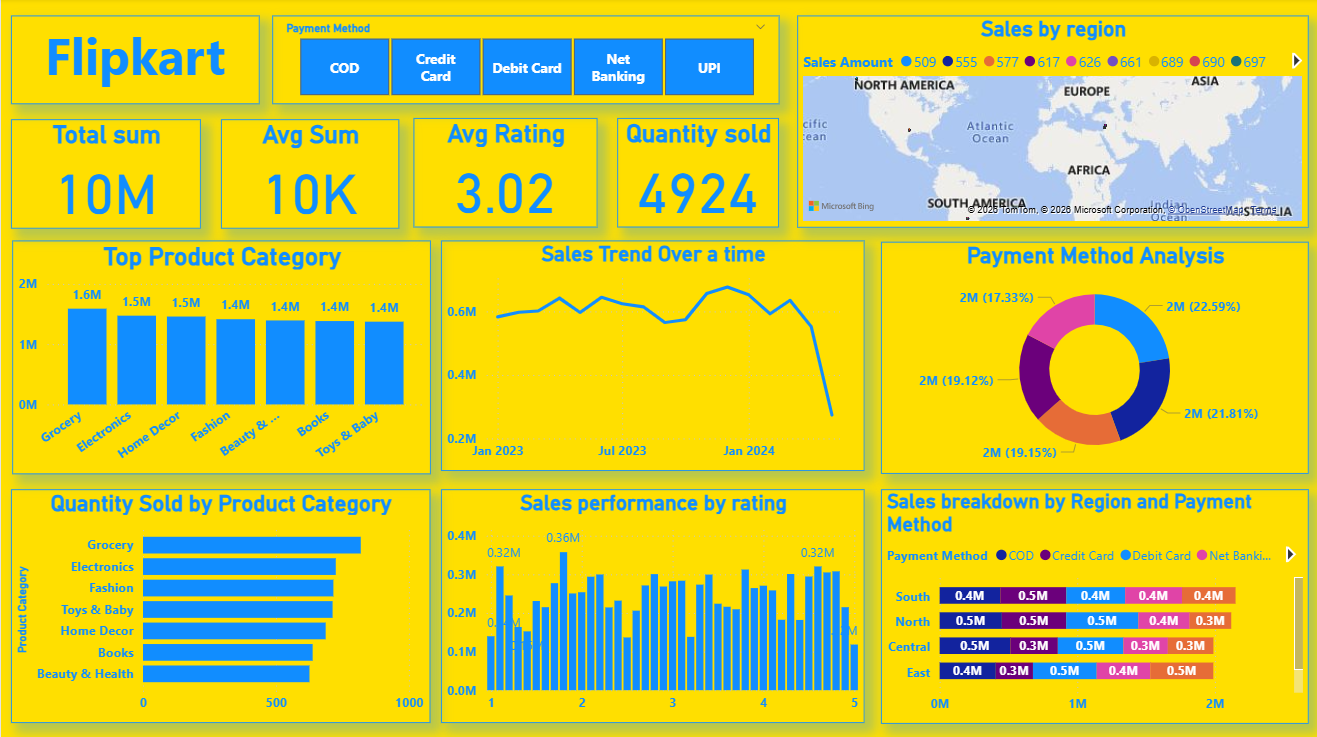

The dashboard page shown, as its layout file describes it:
{"tool":"powerbi","page":{"name":"Page 1","canvas":[1280,720],"ordinal":0},"visuals":[{"type":"card","title":"Total sum","fields":{"Values":["Sum(Sheet1.Sales Amount)"]},"box":[10.1,117,183.4,105.4],"z":0},{"type":"card","title":"Avg Sum","fields":{"Values":["Avg(Sheet1.Sales Amount)"]},"box":[212.3,117,171.9,105.4],"z":1000},{"type":"card","title":"Avg Rating","fields":{"Values":["Avg(Sheet1.Customer Rating)"]},"box":[398.7,115.6,177.7,105.4],"z":2000},{"type":"card","title":"Quantity sold","fields":{"Values":["Sum(Sheet1.Quantity Sold)"]},"box":[595.1,115.6,156,105.4],"z":3000},{"type":"map","title":"Sales by region","fields":{"Series":["Sheet1.Sales Amount"],"Category":["Sheet1.Region"]},"box":[769,17.3,493.4,204.9],"z":4000},{"type":"columnChart","title":"Top Product Category","fields":{"Category":["Sheet1.Product Category"],"Y":["Sum(Sheet1.Sales Amount)"]},"box":[0,234,404.4,225.3],"z":5000},{"type":"lineChart","title":"Sales Trend Over a time ","fields":{"Category":["Sheet1.Order Date.Variation.Date Hierarchy.Year","Sheet1.Order Date.Variation.Date Hierarchy.Quarter","Sheet1.Order Date.Variation.Date Hierarchy.Month","Sheet1.Order Date.Variation.Date Hierarchy.Day"],"Y":["Sum(Sheet1.Sales Amount)"]},"box":[424.7,234,408.8,222.4],"z":6000},{"type":"donutChart","title":"Payment  Method Analysis","fields":{"Category":["Sheet1.Payment Method"],"Y":["Sum(Sheet1.Sales Amount)"]},"box":[849.3,235.4,413.1,223.9],"z":7000},{"type":"clusteredBarChart","title":"Quantity Sold by Product Category","fields":{"Category":["Sheet1.Product Category"],"Y":["Sum(Sheet1.Quantity Sold)"]},"box":[10.1,473.8,404.4,225.3],"z":8000},{"type":"clusteredColumnChart","title":"Sales performance by rating","fields":{"Category":["Sheet1.Customer Rating"],"Y":["Sum(Sheet1.Sales Amount)"]},"box":[424.7,473.8,408.8,225.3],"z":9000},{"type":"barChart","title":"Sales breakdown by Region and Payment Method","fields":{"Series":["Sheet1.Payment Method"],"Y":["Sum(Sheet1.Sales Amount)"],"Category":["Sheet1.Region"]},"box":[849.3,473.8,413.1,226.8],"z":10000},{"type":"slicer","fields":{"Values":["Sheet1.Payment Method"]},"box":[261.4,17.3,489.6,85.2],"z":11000},{"type":"textbox","box":[10.1,17.3,239.8,85.2],"z":12000}]}

Visuals, with their boxes in screenshot pixels (x1, y1, x2, y2), scaled from the page's 1280x720 canvas onto the 1317x737 screenshot:
"Total sum" card: {"x1": 10, "y1": 120, "x2": 199, "y2": 228}
"Avg Sum" card: {"x1": 218, "y1": 120, "x2": 395, "y2": 228}
"Avg Rating" card: {"x1": 410, "y1": 118, "x2": 593, "y2": 226}
"Quantity sold" card: {"x1": 612, "y1": 118, "x2": 773, "y2": 226}
"Sales by region" map: {"x1": 791, "y1": 18, "x2": 1299, "y2": 227}
"Top Product Category" columnChart: {"x1": 0, "y1": 240, "x2": 416, "y2": 470}
"Sales Trend Over a time " lineChart: {"x1": 437, "y1": 240, "x2": 858, "y2": 467}
"Payment  Method Analysis" donutChart: {"x1": 874, "y1": 241, "x2": 1299, "y2": 470}
"Quantity Sold by Product Category" clusteredBarChart: {"x1": 10, "y1": 485, "x2": 426, "y2": 716}
"Sales performance by rating" clusteredColumnChart: {"x1": 437, "y1": 485, "x2": 858, "y2": 716}
"Sales breakdown by Region and Payment Method" barChart: {"x1": 874, "y1": 485, "x2": 1299, "y2": 717}
slicer - Sheet1.Payment Method: {"x1": 269, "y1": 18, "x2": 773, "y2": 105}
textbox: {"x1": 10, "y1": 18, "x2": 257, "y2": 105}
